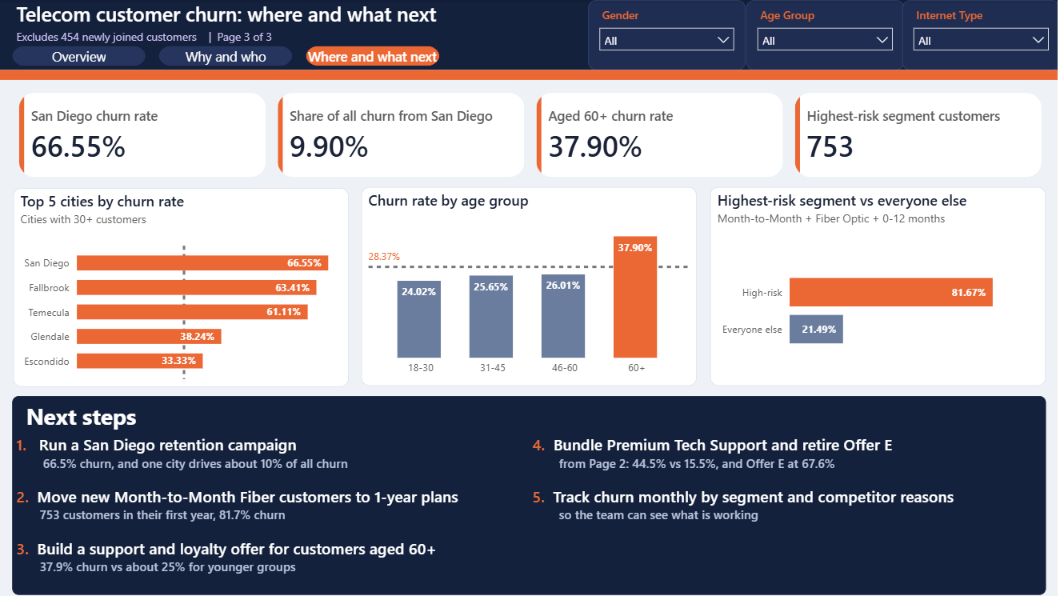

What the dashboard file says about the page in this screenshot:
{"tool":"powerbi","page":{"name":"Where and what next","canvas":[1280,720],"ordinal":2},"visuals":[{"type":"shape","box":[0,0,1280,85],"z":0},{"type":"textbox","title":"Telecom customer churn: where and what next","box":[16,0,558.6,55.5],"z":1000},{"type":"slicer","fields":{"Values":["telecom_churn_cleaned.gender"]},"box":[710.6,0,189.4,84.5],"z":2000},{"type":"slicer","fields":{"Values":["telecom_churn_cleaned.age_group"]},"box":[901.2,0,190.6,84.5],"z":3000},{"type":"slicer","fields":{"Values":["telecom_churn_cleaned.internet_type"]},"box":[1089.4,0,190.6,84.5],"z":4000},{"type":"shape","box":[0,84.5,1280,12.1],"z":5000},{"type":"pageNavigator","box":[15.7,55.5,516.4,24.1],"z":6000},{"type":"clusteredBarChart","title":"Top 5 cities by churn rate","fields":{"Category":["telecom_churn_cleaned.city"],"Y":["telecom_churn_cleaned.Churn Rate (30+ customers)"]},"box":[16.9,226.8,405,240],"z":6002},{"type":"clusteredColumnChart","title":"Churn rate by age group","fields":{"Y":["telecom_churn_cleaned.Churn Rate"],"Category":["telecom_churn_cleaned.age_group"]},"box":[437.2,226,405,240],"z":6003},{"type":"clusteredBarChart","title":"Highest-risk segment vs everyone else","fields":{"Category":["Segments.Segment"],"Y":["Segments.Segment Churn Rate"]},"box":[857.8,226,405,240],"z":6004},{"type":"cardVisual","fields":{"Data":["telecom_churn_cleaned.San Diego churn rate","telecom_churn_cleaned.San Diego share of churn","telecom_churn_cleaned.Aged 60+ churn rate","telecom_churn_cleaned.HR Customers"]},"box":[19.2,107,1244.6,111.1],"z":6005},{"type":"textbox","box":[15.1,477.5,1247.3,240.1],"z":6006},{"type":"textbox","box":[15.1,518.7,623,199],"z":6007},{"type":"textbox","box":[638.1,518.7,625.7,203.1],"z":6008}]}

Visuals, with their boxes in screenshot pixels (x1, y1, x2, y2), scaled from the page's 1280x720 canvas onto the 1058x596 screenshot:
shape: 0:0:1057:70
"Telecom customer churn: where and what next" textbox: 13:0:475:46
slicer - telecom_churn_cleaned.gender: 587:0:744:70
slicer - telecom_churn_cleaned.age_group: 745:0:902:70
slicer - telecom_churn_cleaned.internet_type: 900:0:1057:70
shape: 0:70:1057:80
pageNavigator: 13:46:440:66
"Top 5 cities by churn rate" clusteredBarChart: 14:188:349:386
"Churn rate by age group" clusteredColumnChart: 361:187:696:386
"Highest-risk segment vs everyone else" clusteredBarChart: 709:187:1044:386
cardVisual - telecom_churn_cleaned.San Diego churn rate x telecom_churn_cleaned.San Diego share of churn: 16:89:1045:181
textbox: 12:395:1043:594
textbox: 12:429:527:594
textbox: 527:429:1045:595
